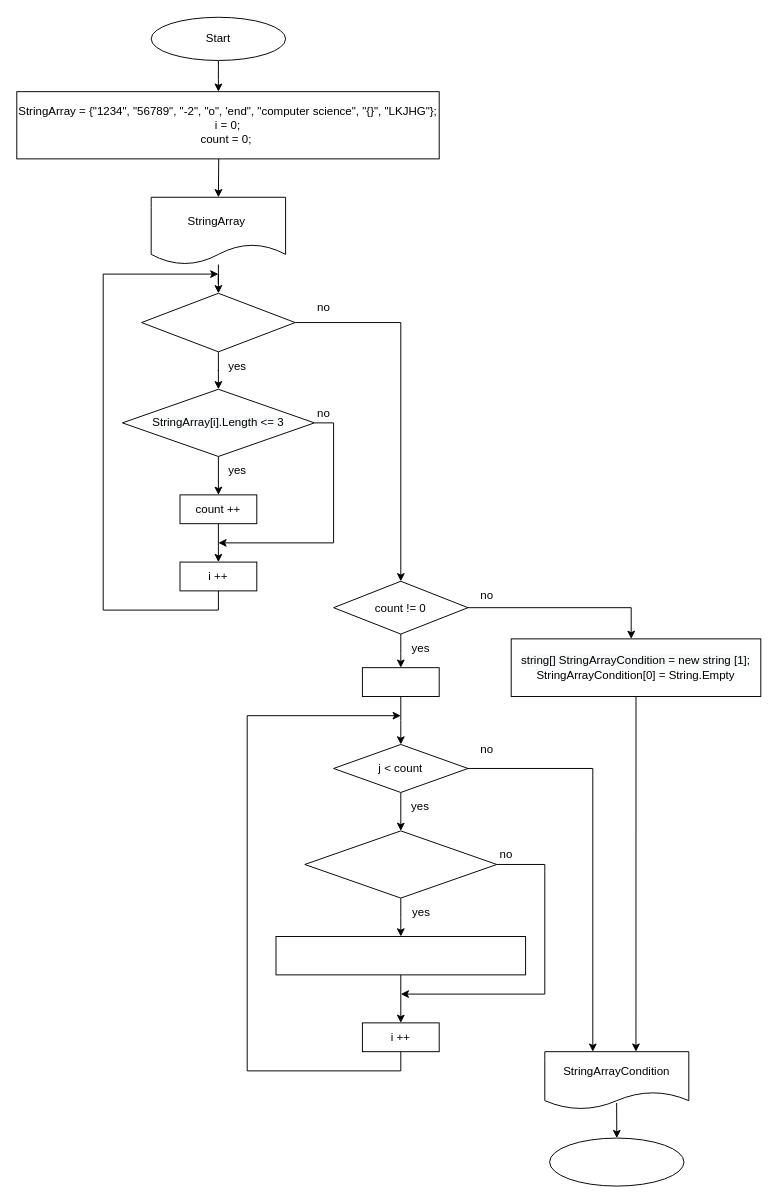
This 778x1203 diagram has some shape labels left out. Here are the shapes that lost their labels. From the top down, the box of each, then its label:
(141, 292, 295, 352): i < StringArray.Length
(361, 667, 439, 696): j = 0; i = 0
(304, 830, 497, 898): StringArray[ i ].Length <= 3
(275, 936, 526, 975): StringArrayCondition [ j ] = String Array[ i ]; j ++
(549, 1137, 684, 1186): end
